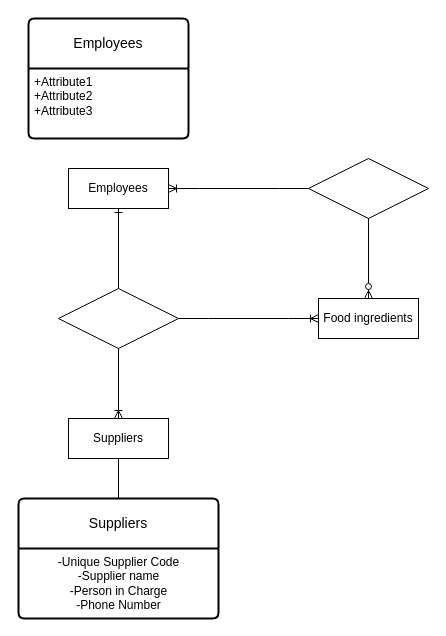
This 446x636 diagram has some shape labels left out. The shapes that lost their labels are listed below. From the top down, each one's box as (x1, y1, x2, y2) in pixels, then its label:
(308, 158, 428, 218): use
(58, 288, 178, 348): Deliver
